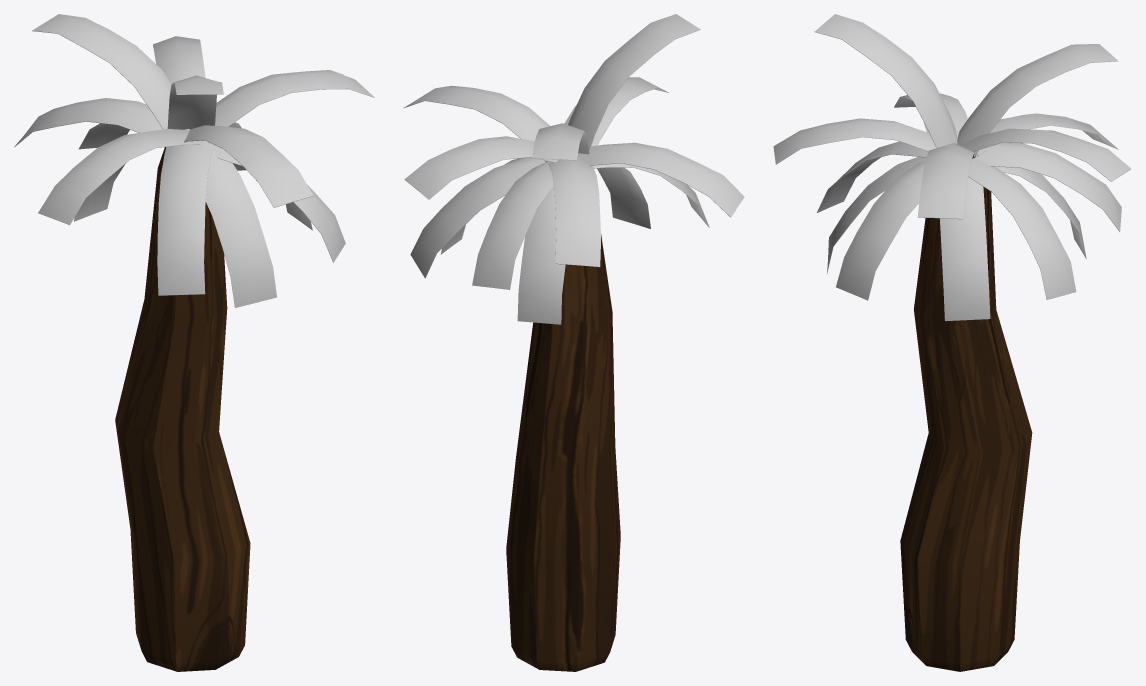
File: tree_1.fbx
3 views of the same model, side by side, from view 1: azimuth 30°, elevation 25°; view 2: azimuth 150°, elevation 25°; view 3: azimuth 270°, elevation 25° (orthographic). The views are drawn at different scales.
Visible parts, largest first — view 1: tree_1; view 2: tree_1; view 3: tree_1.
Part boxes in pixels (x1,y1,x2,y2): tree_1: [14, 14, 374, 671]; tree_1: [403, 14, 744, 671]; tree_1: [773, 14, 1130, 671].
Size of the model in its own units: 4.62 by 8.38 by 4.51.
